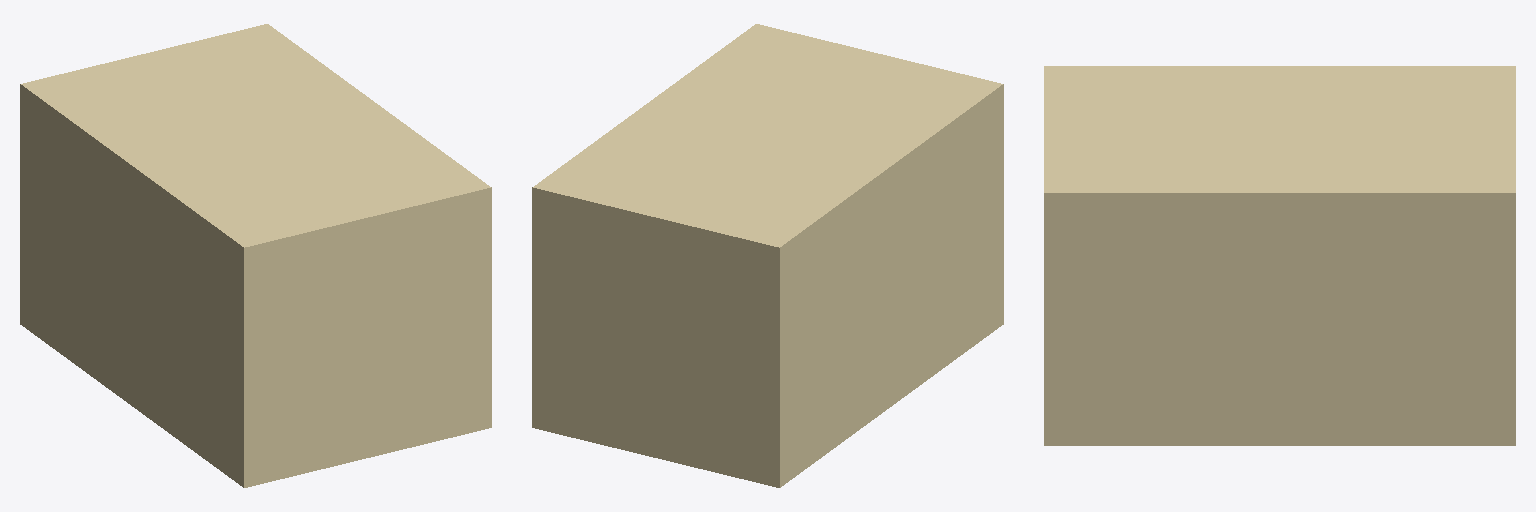
The robot description file, URDF, robot "box.urdf":
<?xml version="1.0" ?>
<robot name="box.urdf">
  <link name="baseLink">
    <contact>
      <lateral_friction value="1.0"/>
      <rolling_friction value="0.0001"/>
      <inertia_scaling value="3.0"/>
    </contact>
    <inertial>
      <origin rpy="0 0 0" xyz="0 0 0"/>
       <mass value="0.1"/>
       <inertia ixx="1" ixy="0" ixz="0" iyy="1" iyz="0" izz="1"/>
    </inertial>
    <visual>
      <origin rpy="0 0 0" xyz="0 0 0"/>
      <geometry>
        <!-- <box size="0.312 0.489 0.29"/> -->
        <mesh filename="box/box.obj" scale="0.312 0.489 0.29"/>
      </geometry>
      <material name="white">
        <color rgba="0.9 0.85 0.7 1"/>
      </material>
    </visual>
    <collision>
      <origin rpy="0 0 0" xyz="0 0 0"/>
      <geometry>
        <mesh filename="box/box.obj" scale="0.312 0.489 0.29"/>
	 	    <!-- <box size="0.312 0.489 0.29"/> -->
      </geometry>
    </collision>
  </link>
</robot>

--- Render facts (derived) ---
The picture shows the robot from 3 angles, left to right: view 1: azimuth 30°, elevation 25°; view 2: azimuth 150°, elevation 25°; view 3: azimuth 270°, elevation 25°; orthographic projection.
Model box.urdf with 1 links and 0 joints (none), rooted at baseLink, posed all joints at 0.
Links seen in each view (by area): view 1: baseLink; view 2: baseLink; view 3: baseLink.
Boxes of the visible links, x1=… form: baseLink: x1=20, y1=24, x2=491, y2=487; baseLink: x1=532, y1=24, x2=1003, y2=487; baseLink: x1=1044, y1=66, x2=1515, y2=445.
Bounding box of the posed robot: 0.312 × 0.489 × 0.29 m (x, y, z).
Meshes: 1 distinct files referenced, 1 mesh visuals loaded (1 OBJ).
